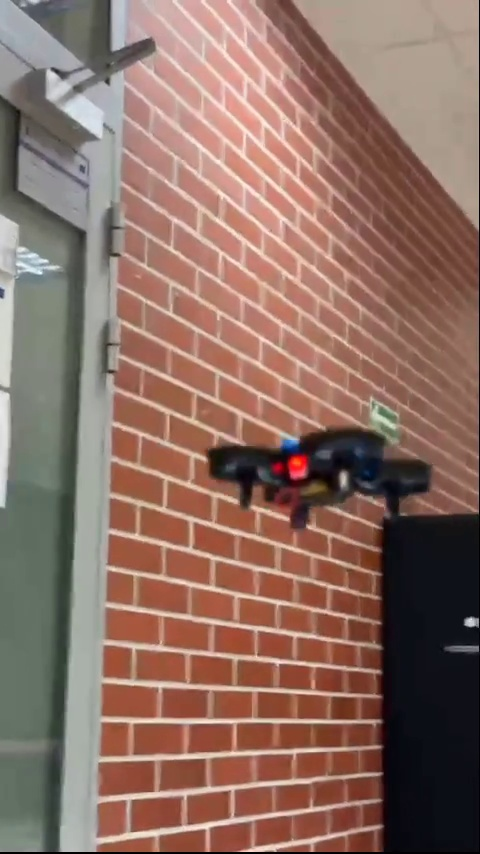drone: (212, 421, 427, 529)
